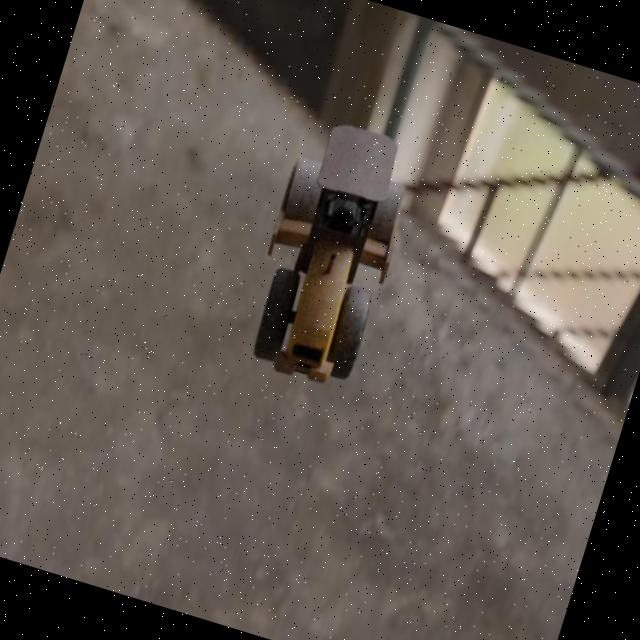Roller: (233, 110, 426, 394)
